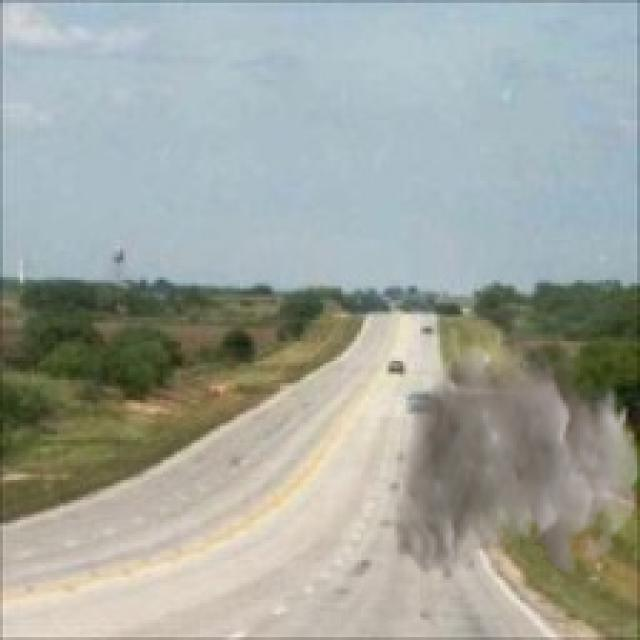smoke: (392, 314, 637, 586)
